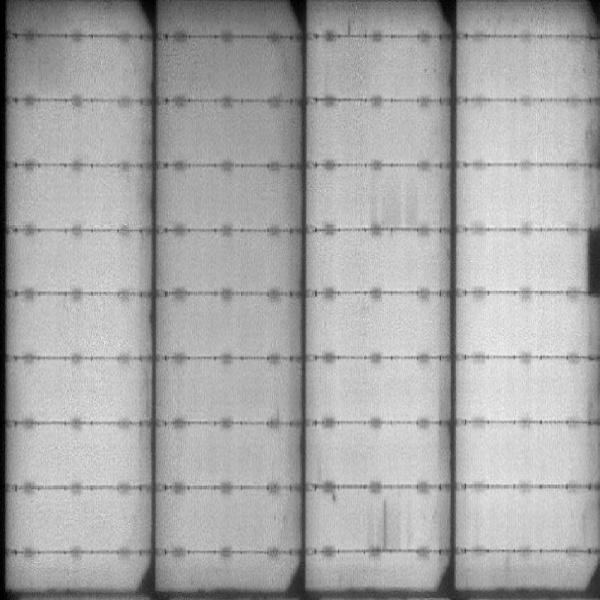black_border: (584, 226, 598, 301)
scratch: (381, 501, 392, 548)
